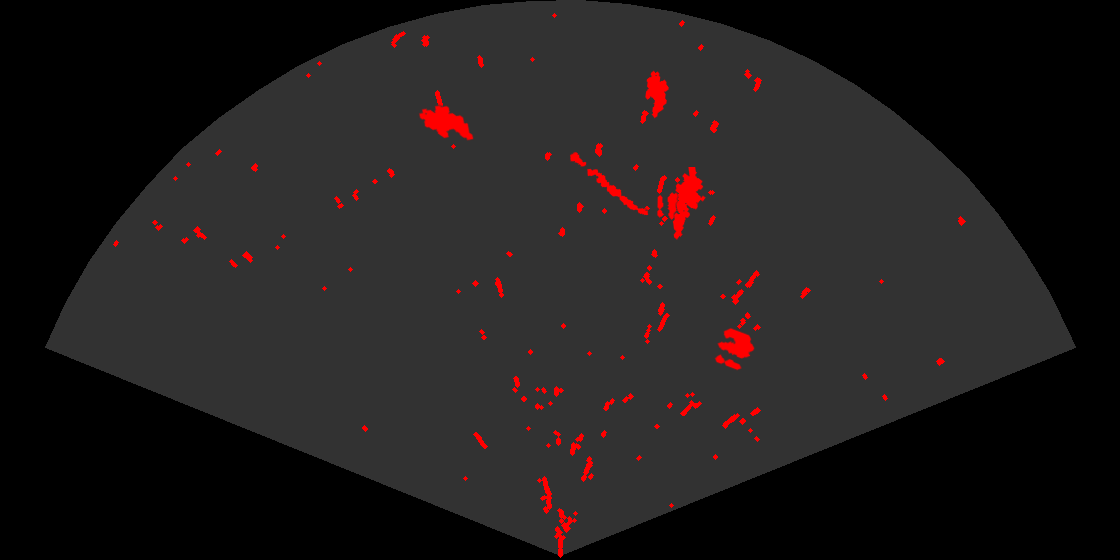AUV: (417, 104, 475, 142), (644, 69, 670, 120)
ball: (713, 326, 756, 372), (656, 190, 689, 221)
chain: (568, 150, 650, 217)
frogman: (671, 167, 707, 240)
